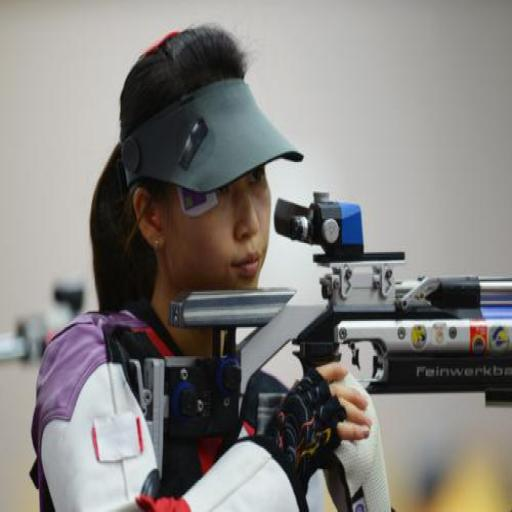shooting: (29, 22, 395, 510)
